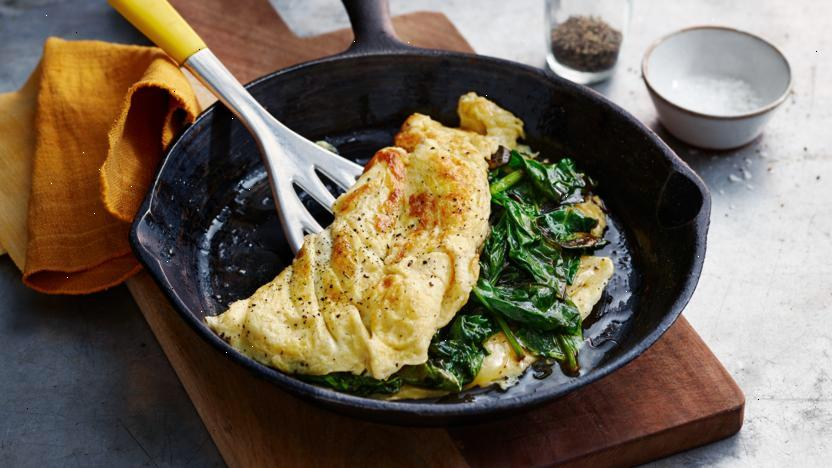omelette: (244, 127, 606, 399)
